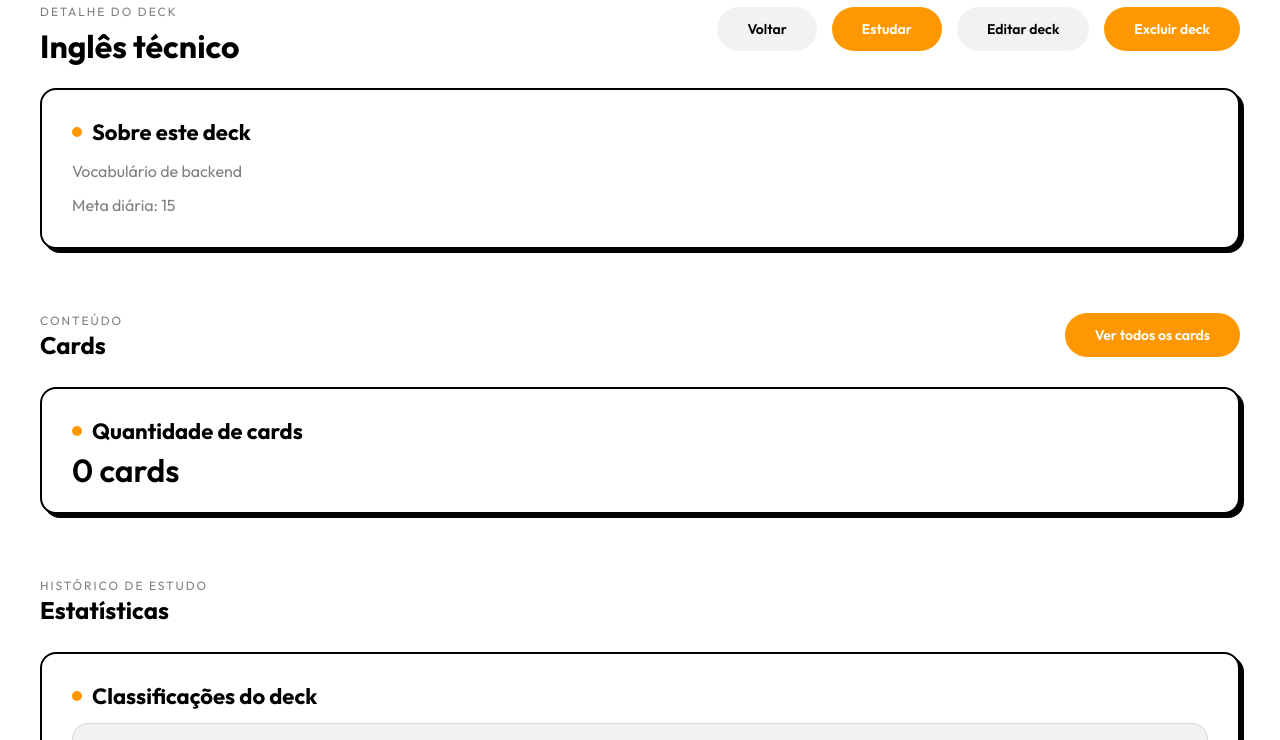
detalhe do deck › edita o deck inline e reflete os dados persistidos
Click the button "Editar deck": (1023,29) top-left (957, 7), bottom-right (1089, 51)
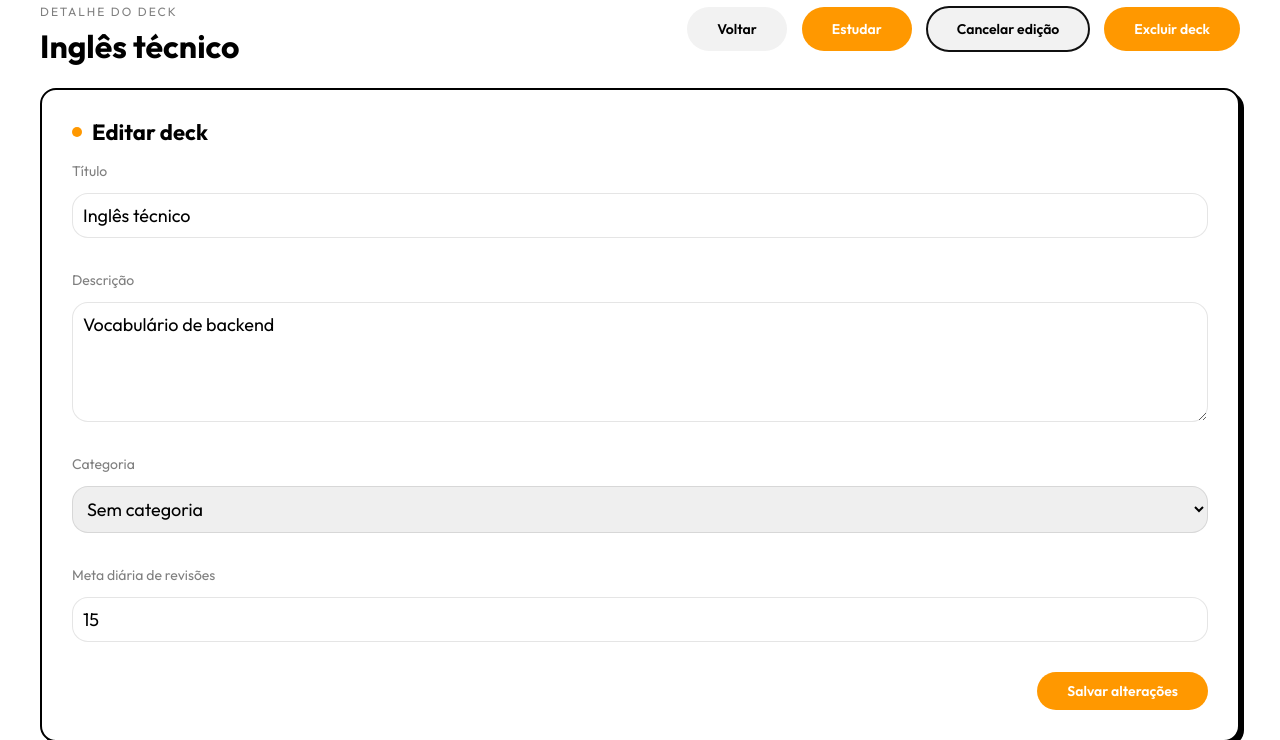
Replace the text in the field labelled "Título" with "Inglês para APIs": (640,216) top-left (72, 193), bottom-right (1208, 238)
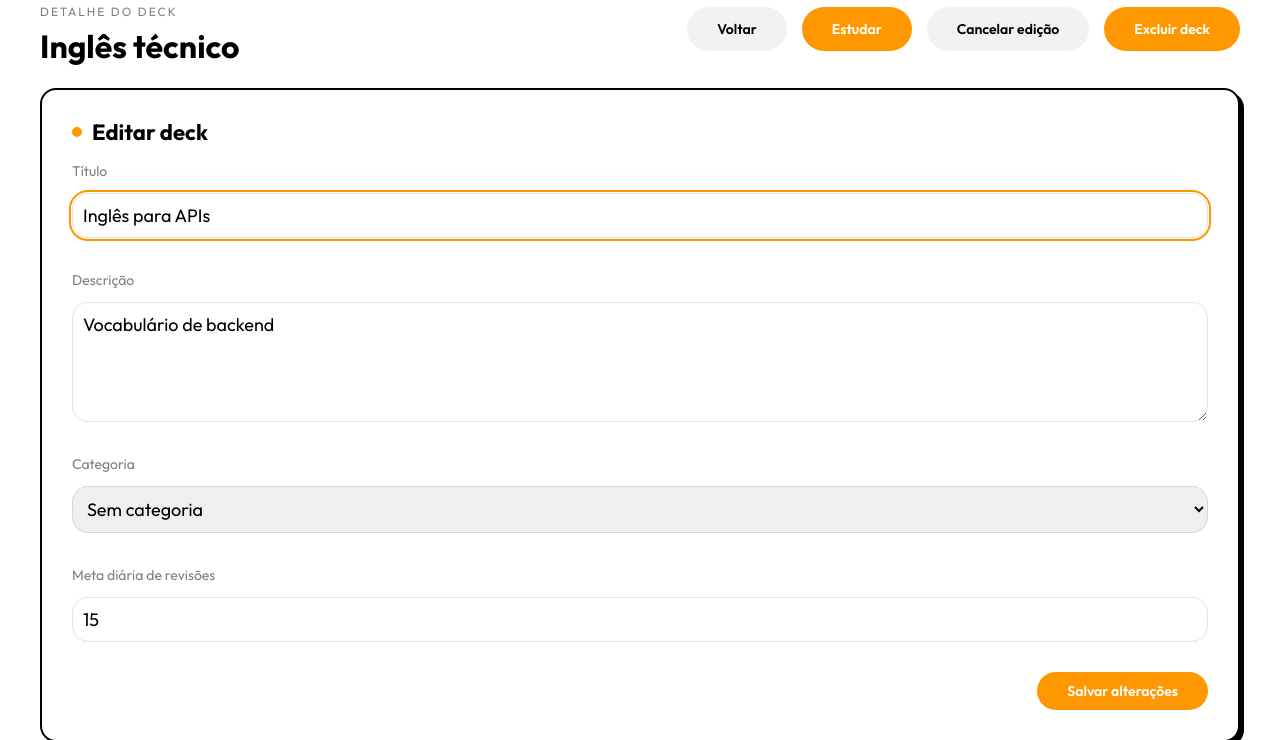
Replace the text in the number field labelled "Meta diária de revisões" with "25": (640,620) top-left (72, 597), bottom-right (1208, 642)
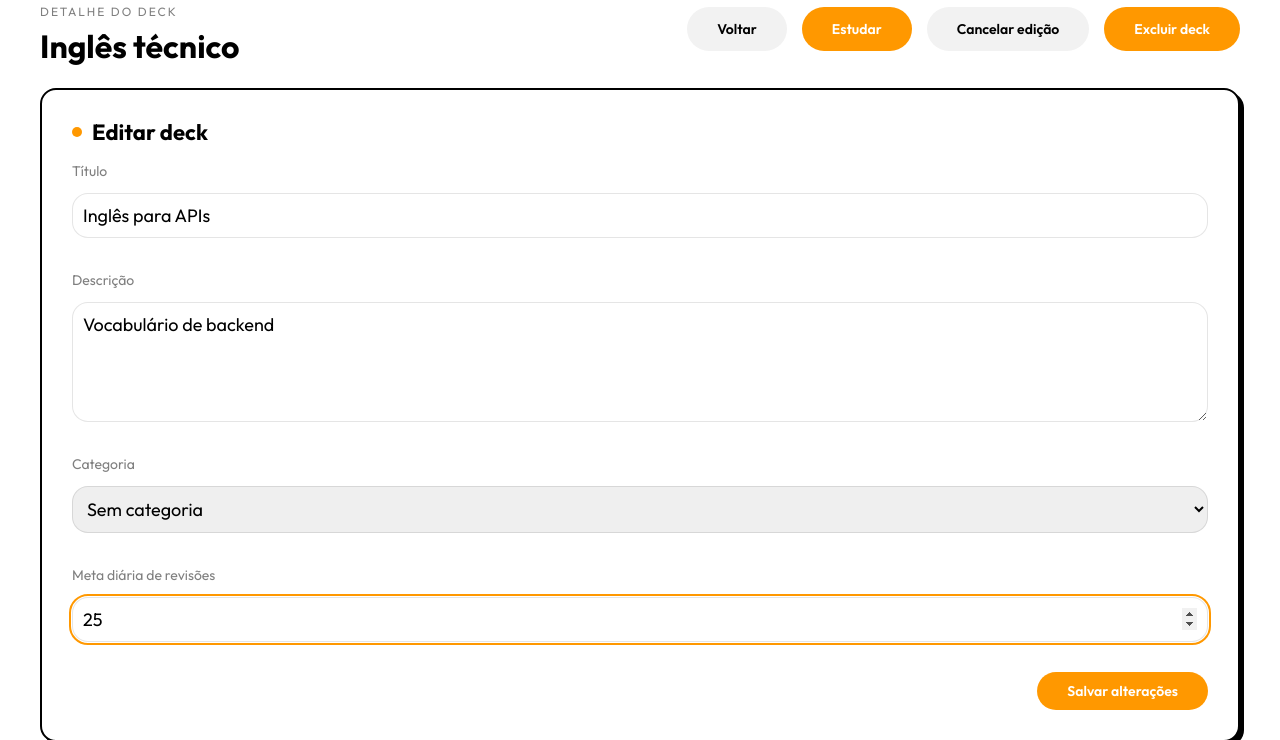
Click the button "Salvar alterações": (1123,691) top-left (1037, 672), bottom-right (1208, 710)
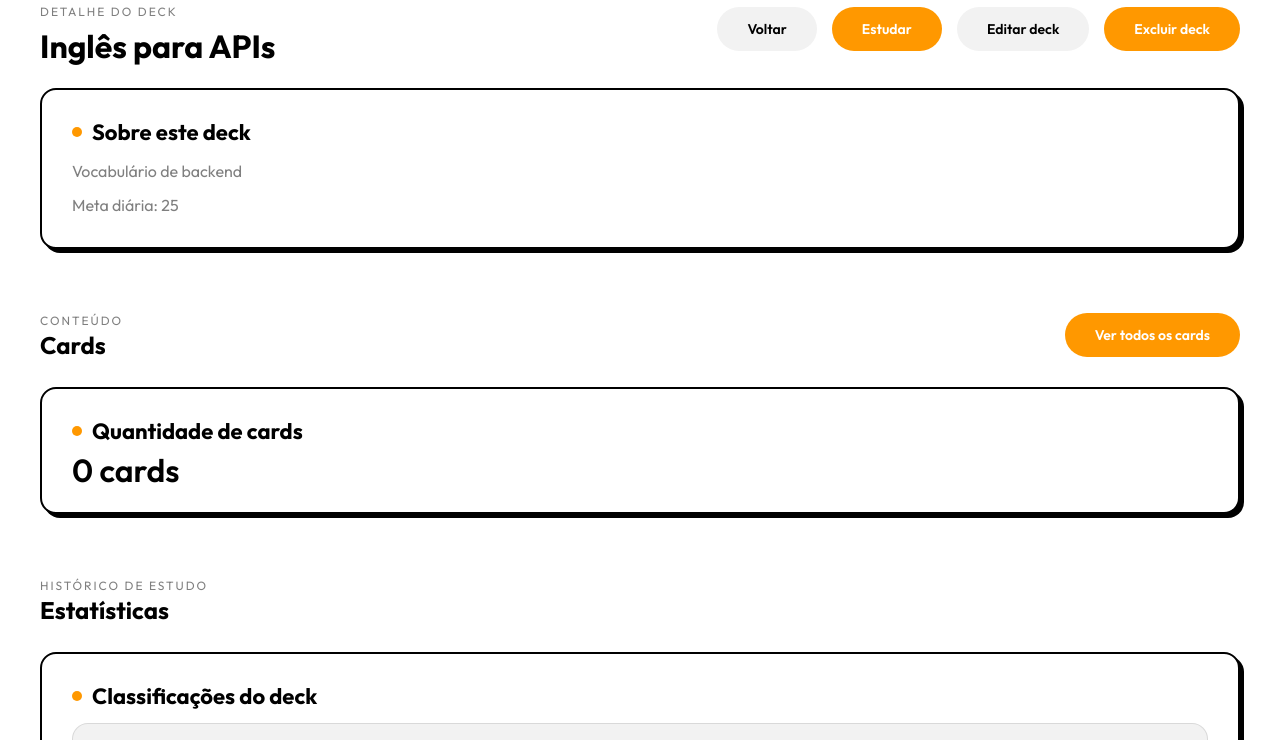
Expected: the heading "Inglês para APIs" is shown, top-left (40, 34), bottom-right (276, 58)
